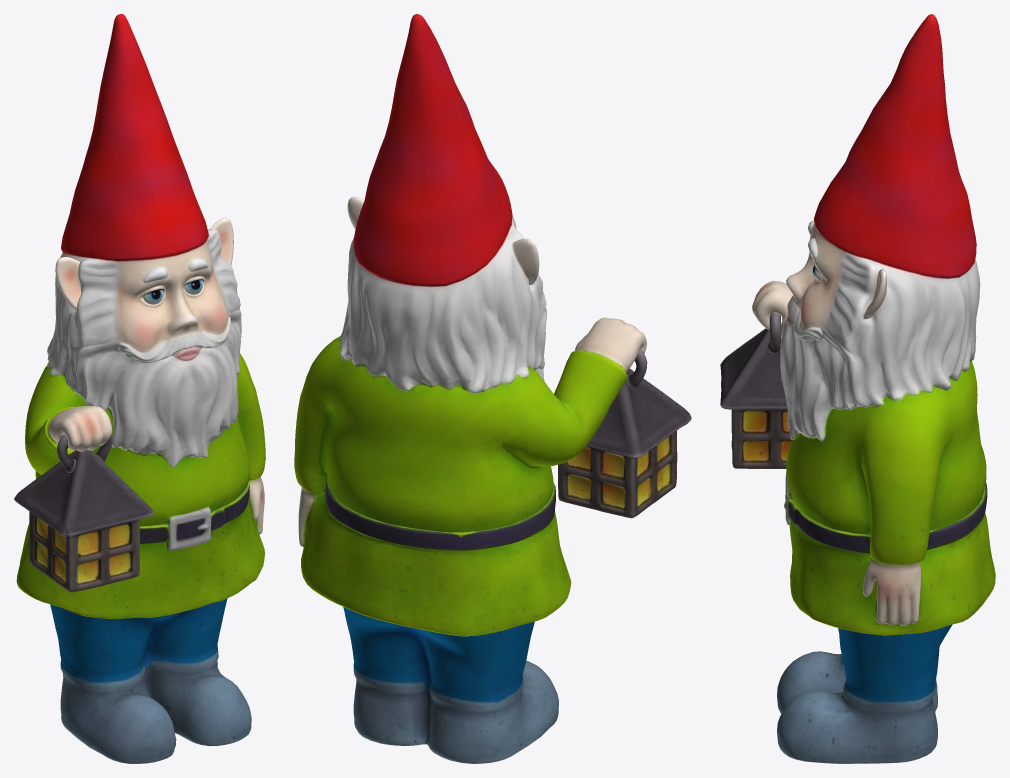
The model's file is garden_gnome.glb.
3 views of the same model, side by side, from view 1: azimuth 30°, elevation 25°; view 2: azimuth 150°, elevation 25°; view 3: azimuth 270°, elevation 25° (orthographic). The views are drawn at different scales.
Parts seen in each view (by area): view 1: garden_gnome; view 2: garden_gnome; view 3: garden_gnome.
Part boxes in pixels (x1,y1,x2,y2): garden_gnome: [14, 14, 265, 763]; garden_gnome: [294, 14, 691, 763]; garden_gnome: [720, 14, 995, 763].
Size of the model in its own units: 0.2579 by 0.5991 by 0.2097.
Materials: 1 (1 with a texture image).
